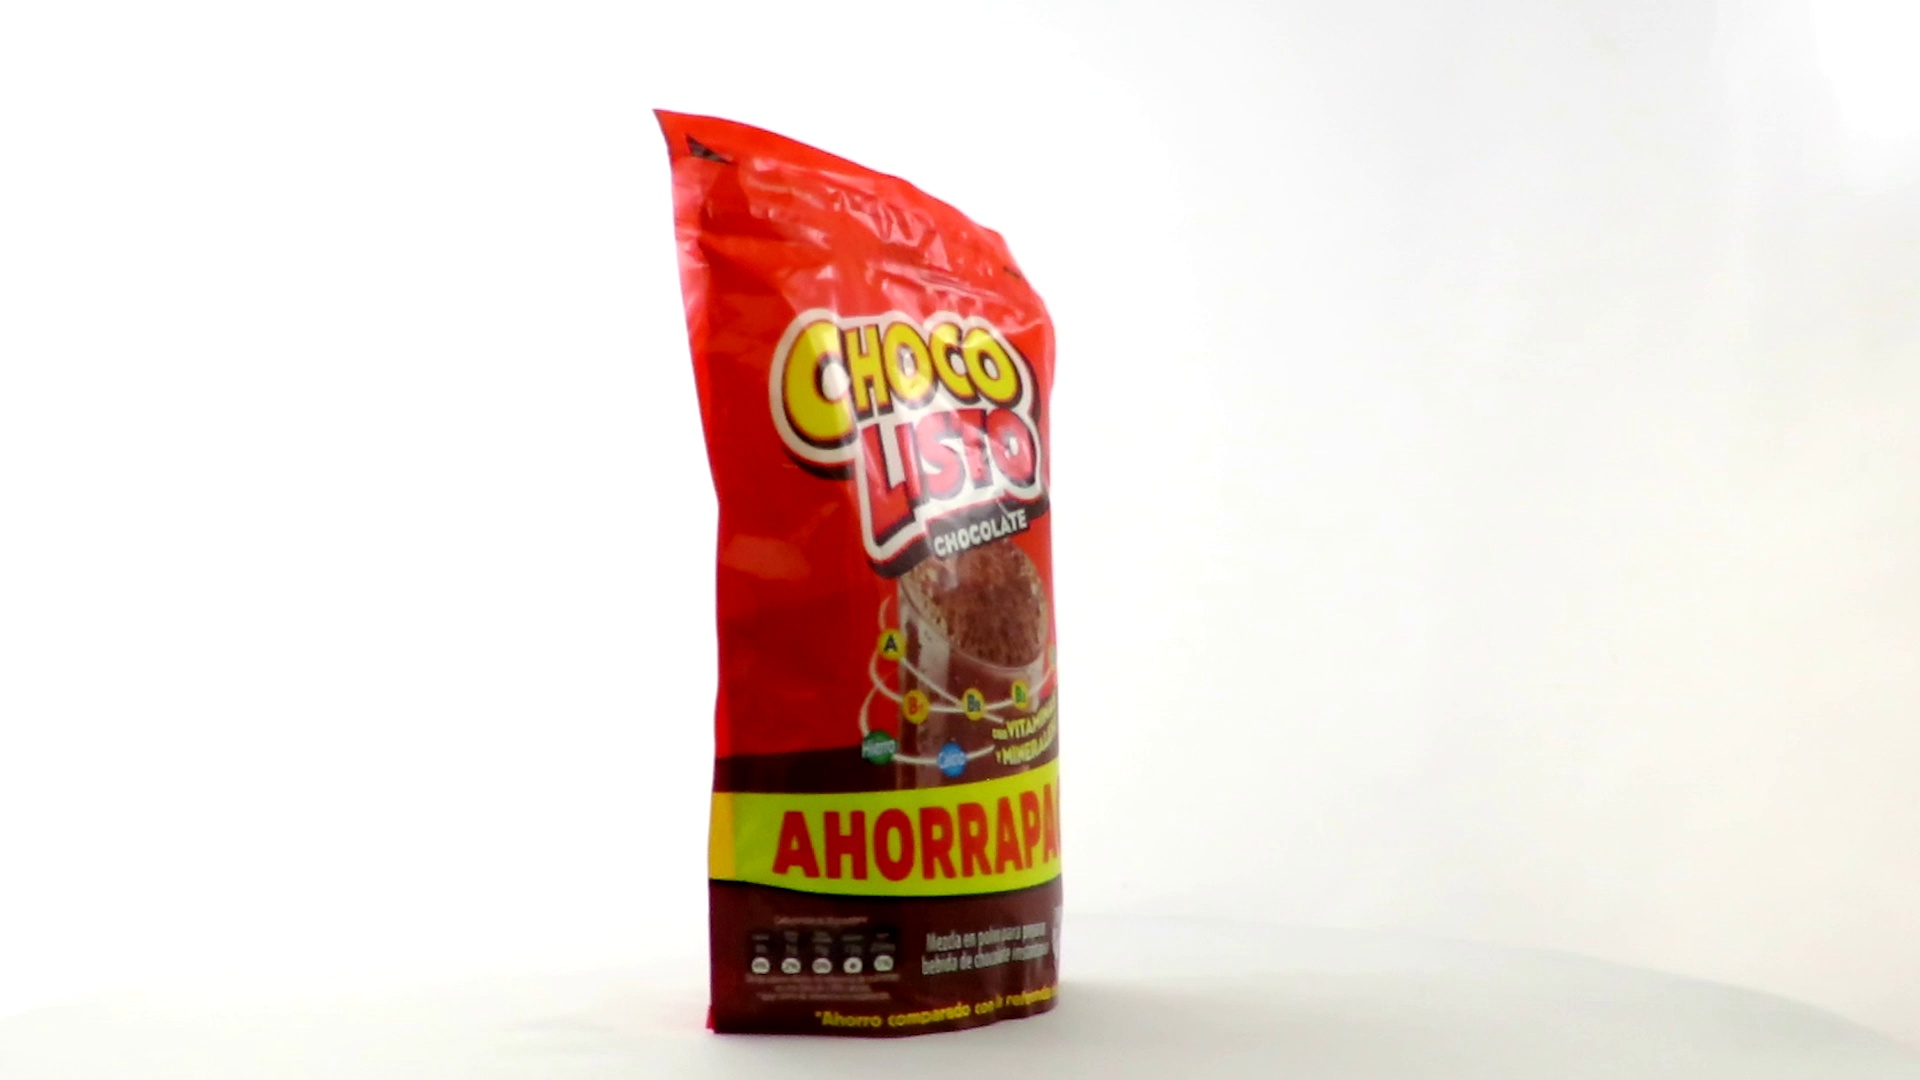COL0170103DYP36000: (647, 104, 1069, 1044)
